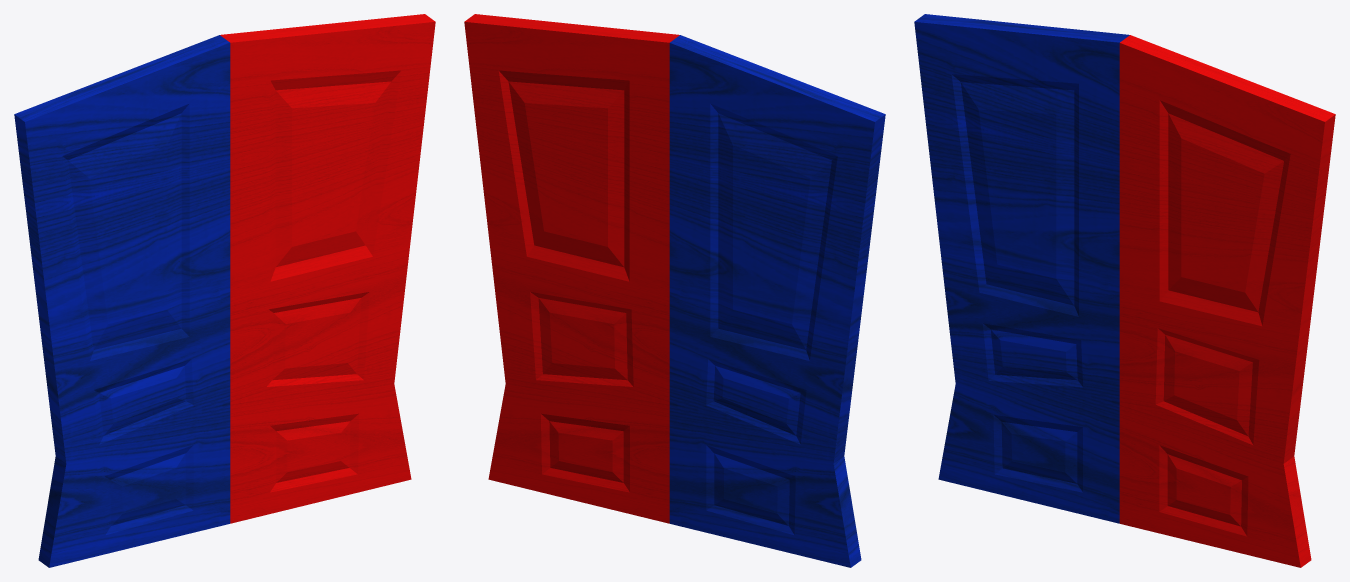
File: PortaHallEntrada.glb
3 renders of one model, left to right at view 1: azimuth 30°, elevation 25°; view 2: azimuth 150°, elevation 25°; view 3: azimuth 330°, elevation 25°, orthographic.
Parts seen in each view (by area): view 1: Cube.002, Cube.001; view 2: Cube.002, Cube.001; view 3: Cube.001, Cube.002.
Part boxes in pixels (x1,y1,x2,y2): Cube.002: [14, 35, 230, 567]; Cube.001: [220, 14, 435, 523]; Cube.002: [669, 35, 885, 567]; Cube.001: [464, 14, 679, 523]; Cube.001: [1119, 35, 1335, 567]; Cube.002: [914, 14, 1129, 523].
Bounding box in the file's own units: 2.38 × 2.66 × 0.1068.
1 material, 1 textured.
